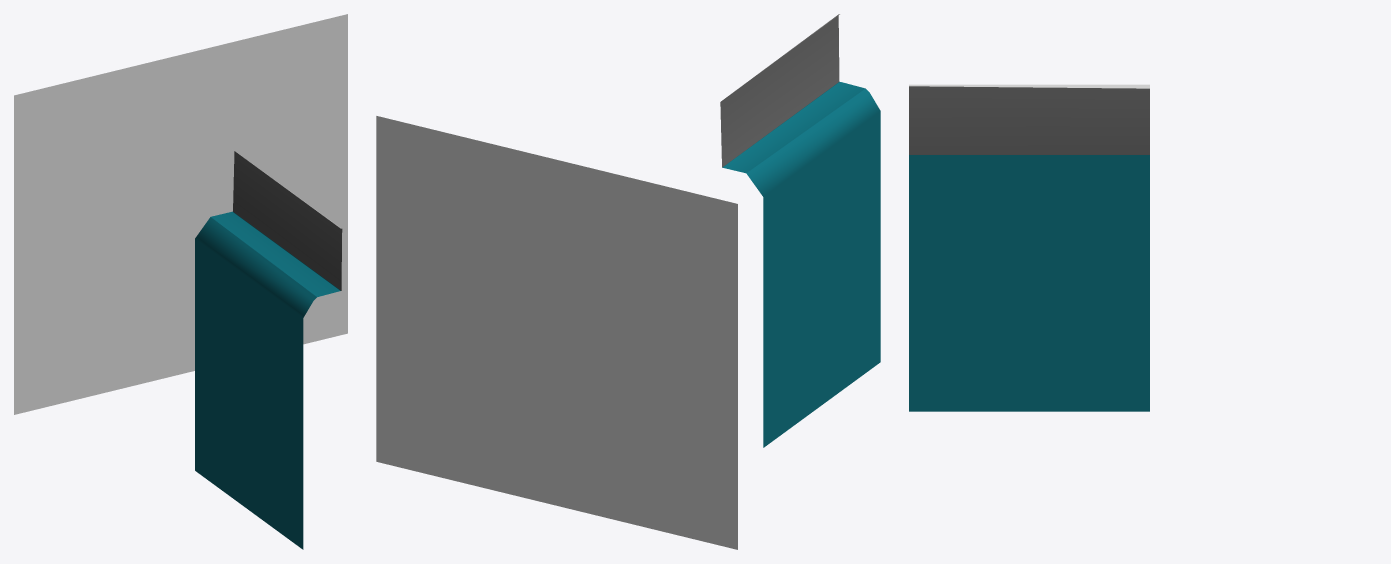
3 renders of one model, left to right at view 1: azimuth 30°, elevation 25°; view 2: azimuth 150°, elevation 25°; view 3: azimuth 270°, elevation 25°, orthographic. The views are drawn at different scales.
Visible parts, largest first — view 1: CB8C0C68422A52A669DA2ABD15E14FF8; view 2: CB8C0C68422A52A669DA2ABD15E14FF8; view 3: CB8C0C68422A52A669DA2ABD15E14FF8.
Part boxes in pixels (x1,y1,x2,y2): CB8C0C68422A52A669DA2ABD15E14FF8: (14, 14, 347, 549); CB8C0C68422A52A669DA2ABD15E14FF8: (376, 14, 880, 549); CB8C0C68422A52A669DA2ABD15E14FF8: (909, 84, 1149, 411).
Bounding box in the file's own units: 13.76 × 12.6 × 11.52.
